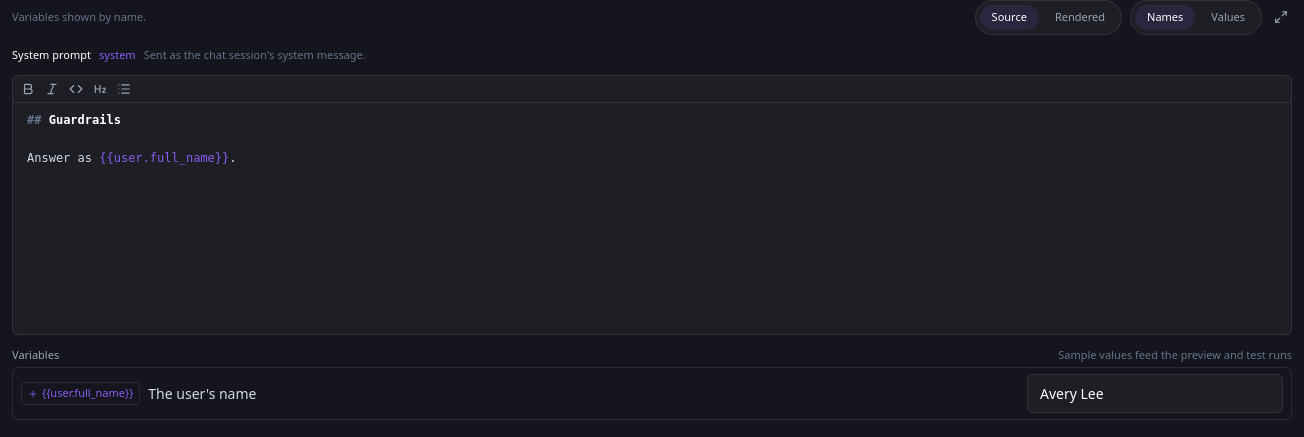
it: PromptEditorPanel views › substitutes sample values in rendered + values — the payload as sent
This screenshot has width=1304, height=437.
Click the button "Rendered": (1080, 17) x1=1043 y1=5 x2=1117 y2=30
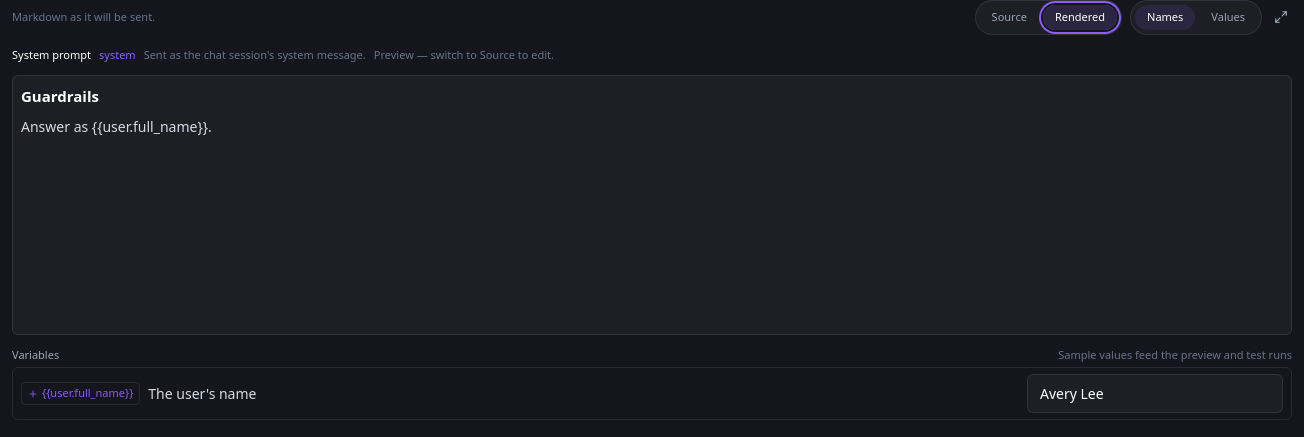
Click the button "Values": (1228, 17) x1=1199 y1=5 x2=1257 y2=30
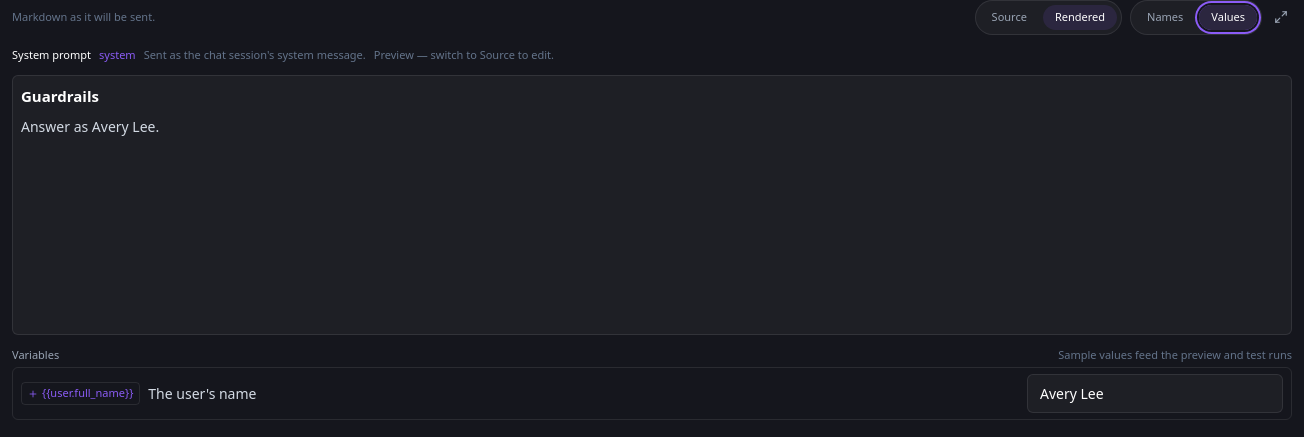
Expected: the heading "Guardrails" is shown, x1=21 y1=86 x2=99 y2=106
Now the text "Answer as Avery Lee." is shown, box x1=21 y1=117 x2=159 y2=136
